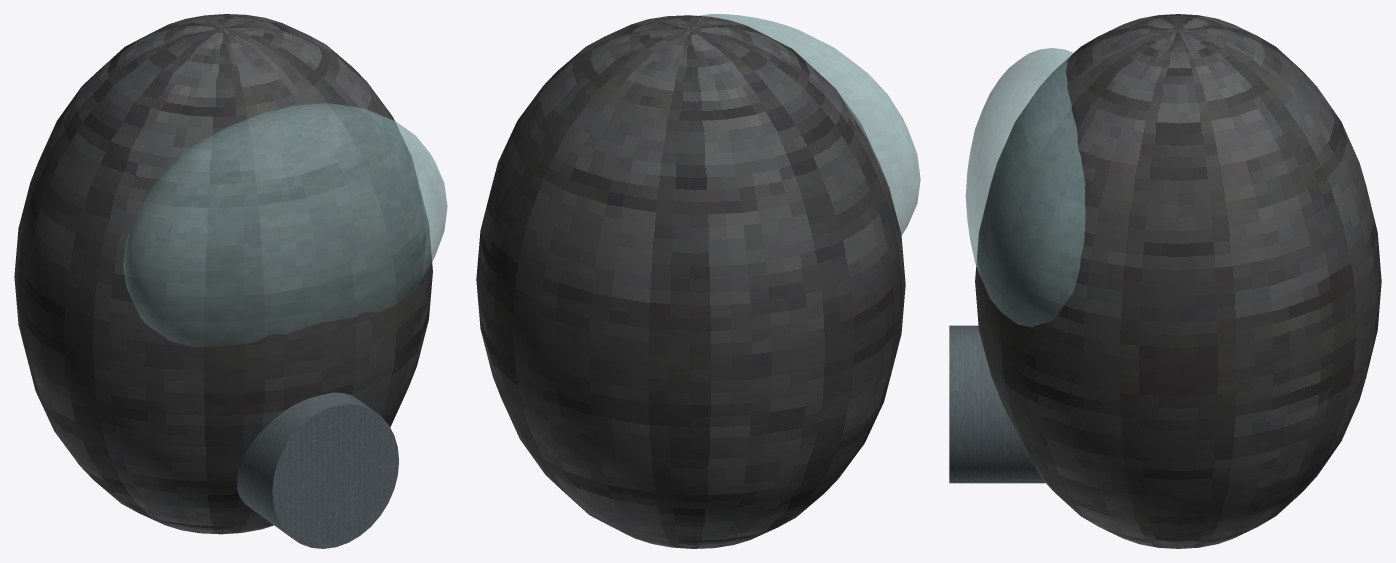
File: facepiece.glb
The picture shows the model from 3 angles, left to right: view 1: azimuth 30°, elevation 25°; view 2: azimuth 150°, elevation 25°; view 3: azimuth 270°, elevation 25°; orthographic projection. The views are drawn at different scales.
Parts seen in each view (by area): view 1: mask, visor, port; view 2: mask, visor; view 3: mask, visor, port.
Boxes of the visible parts, <box> form: mask: <box>14,14,432,534</box>; visor: <box>123,103,447,346</box>; port: <box>237,392,398,548</box>; mask: <box>476,15,905,548</box>; visor: <box>698,14,920,234</box>; mask: <box>975,14,1381,548</box>; visor: <box>965,48,1085,326</box>; port: <box>949,325,1045,483</box>.
Size of the model in its own units: 0.1767 by 0.2256 by 0.1758.
3 materials, 3 textured.
